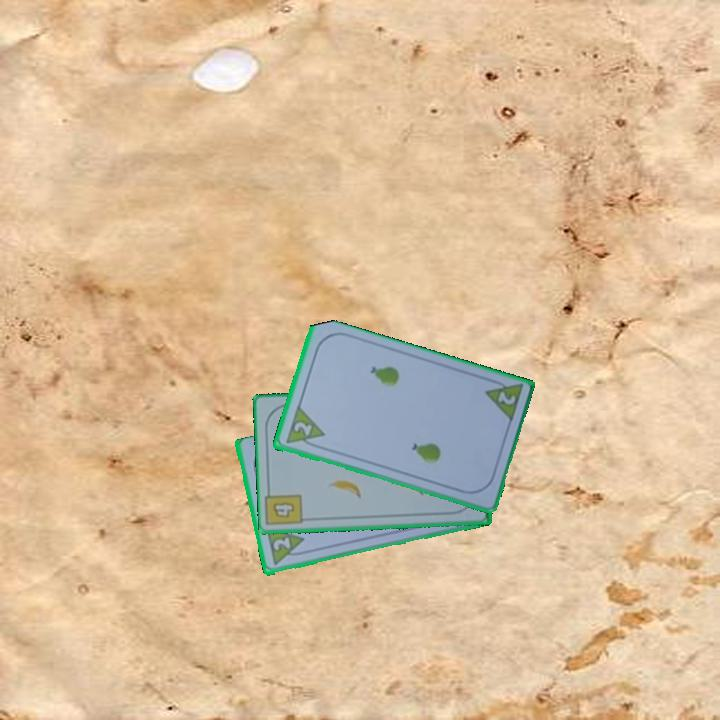2p: (282, 404, 327, 452), (262, 524, 309, 569), (493, 388, 519, 408)
4b: (269, 498, 297, 521)
